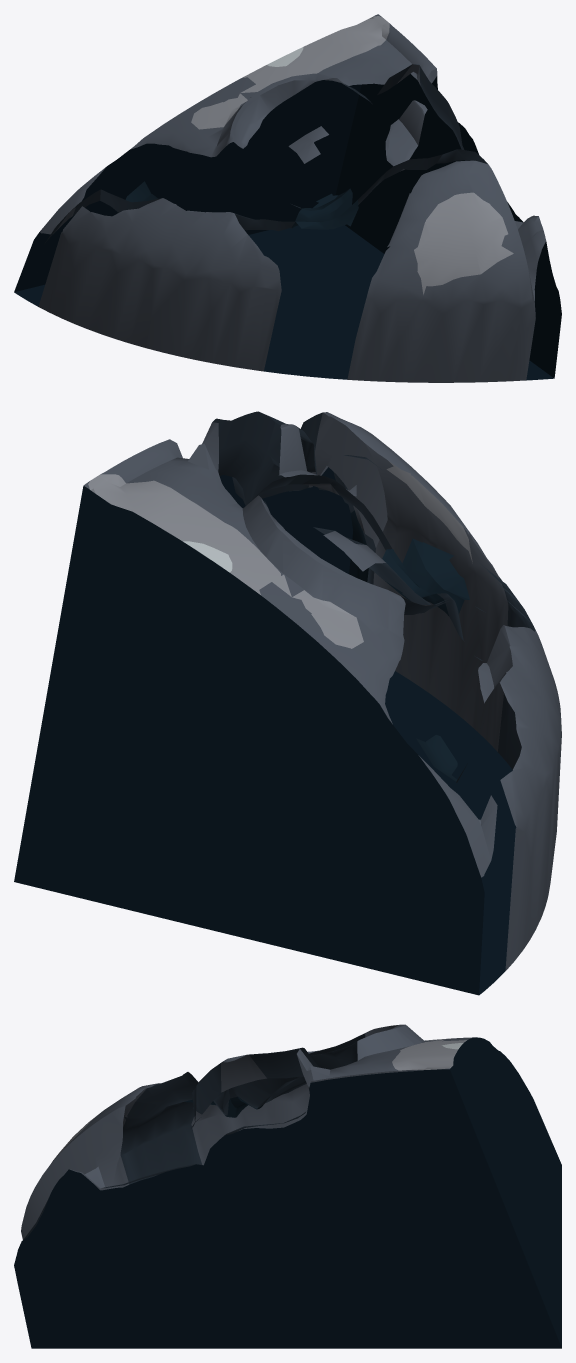
The model's file is armour_dome_wreck_bl.glb.
The picture shows the model from 3 angles, top to bottom: view 1: azimuth 30°, elevation 25°; view 2: azimuth 150°, elevation 25°; view 3: azimuth 270°, elevation 25°; orthographic projection. The views are drawn at different scales.
Parts seen in each view (by area): view 1: armour_dome_wreck_bl; view 2: armour_dome_wreck_bl; view 3: armour_dome_wreck_bl.
Part boxes in pixels (x1,y1,x2,y2): armour_dome_wreck_bl: (14, 14, 561, 382); armour_dome_wreck_bl: (14, 411, 561, 995); armour_dome_wreck_bl: (14, 1024, 561, 1348).
Bounding box in the file's own units: 17.98 × 12.96 × 22.71.
